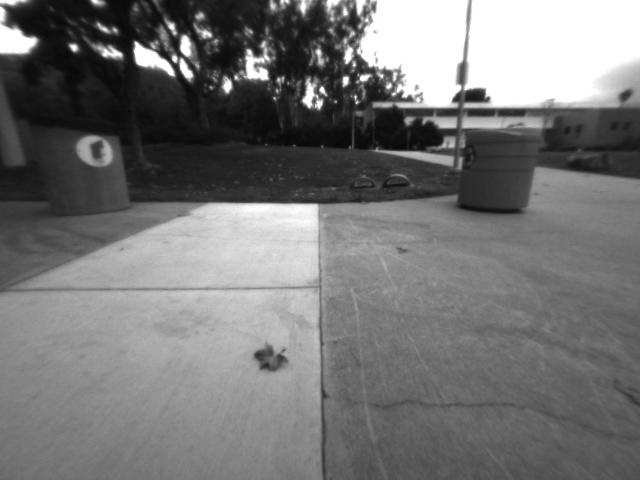trashcan: (17, 102, 133, 225), (451, 109, 545, 227)
